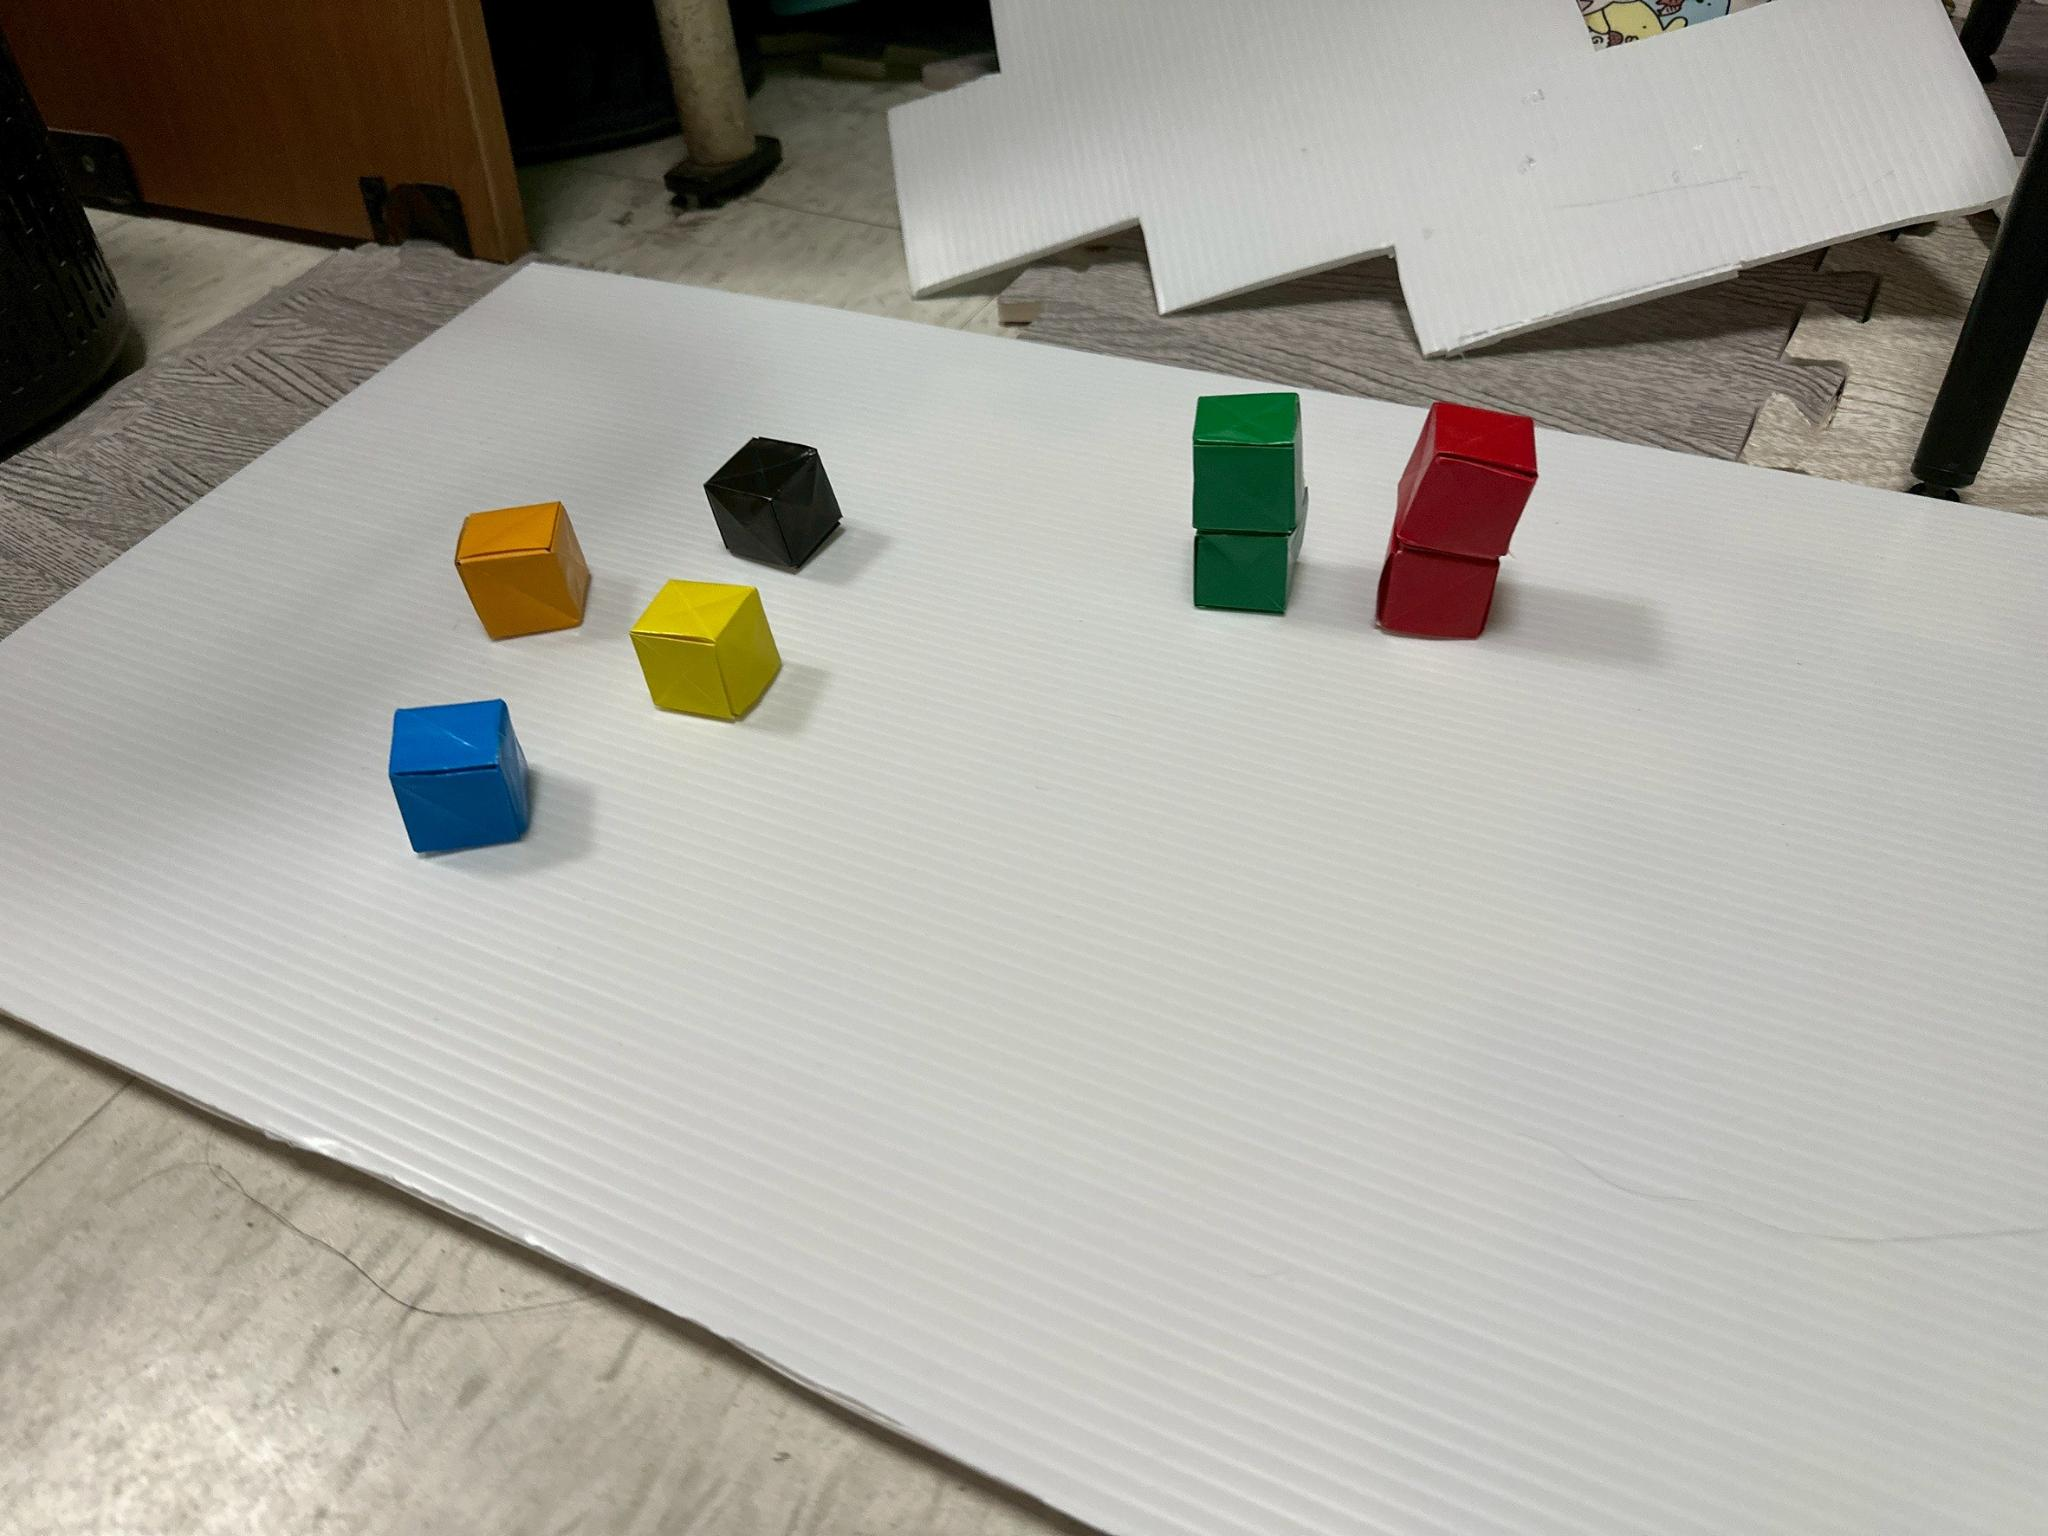base: (1393, 403, 1535, 558), (389, 700, 529, 852), (631, 581, 782, 720), (456, 502, 589, 639), (705, 439, 842, 570), (1193, 392, 1303, 536), (1193, 486, 1308, 613), (1377, 539, 1498, 639)
